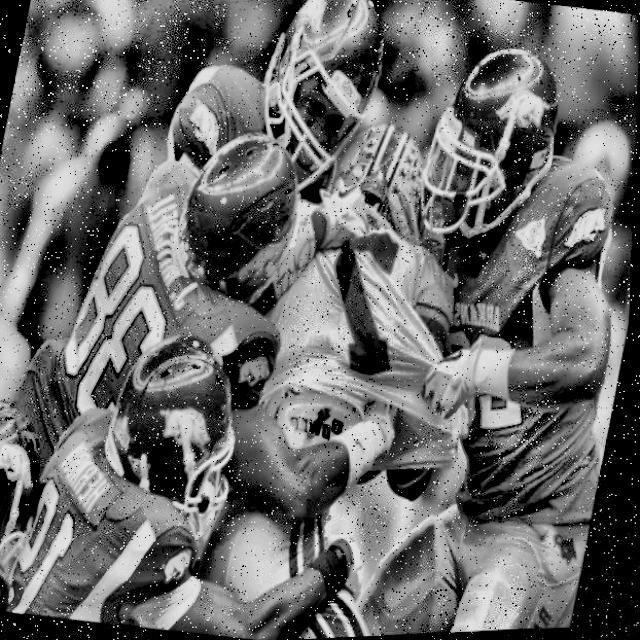Helmet: (86, 326, 267, 574), (406, 34, 586, 269), (238, 0, 399, 208), (164, 123, 324, 307)
